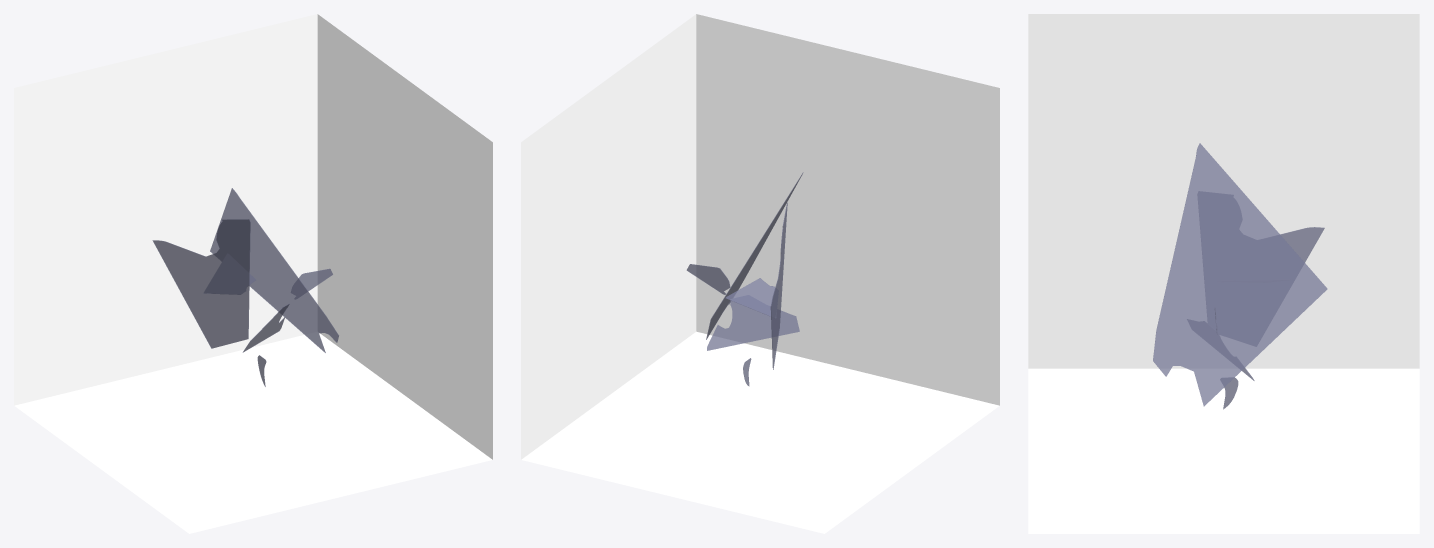
File: defragmentation.glb
3 renders of one model, left to right at view 1: azimuth 30°, elevation 25°; view 2: azimuth 150°, elevation 25°; view 3: azimuth 270°, elevation 25°, orthographic. The views are drawn at different scales.
Parts seen in each view (by area): view 1: videotarget, reflect; view 2: videotarget, reflect; view 3: videotarget, reflect.
Part boxes in pixels (<box>): videotarget: <box>14,14,492,533</box>; reflect: <box>152,188,338,386</box>; videotarget: <box>521,14,999,533</box>; reflect: <box>686,172,803,386</box>; videotarget: <box>1028,14,1419,533</box>; reflect: <box>1153,143,1327,409</box>.
Size of the model in its own units: 1.09 by 1.09 by 1.09.
